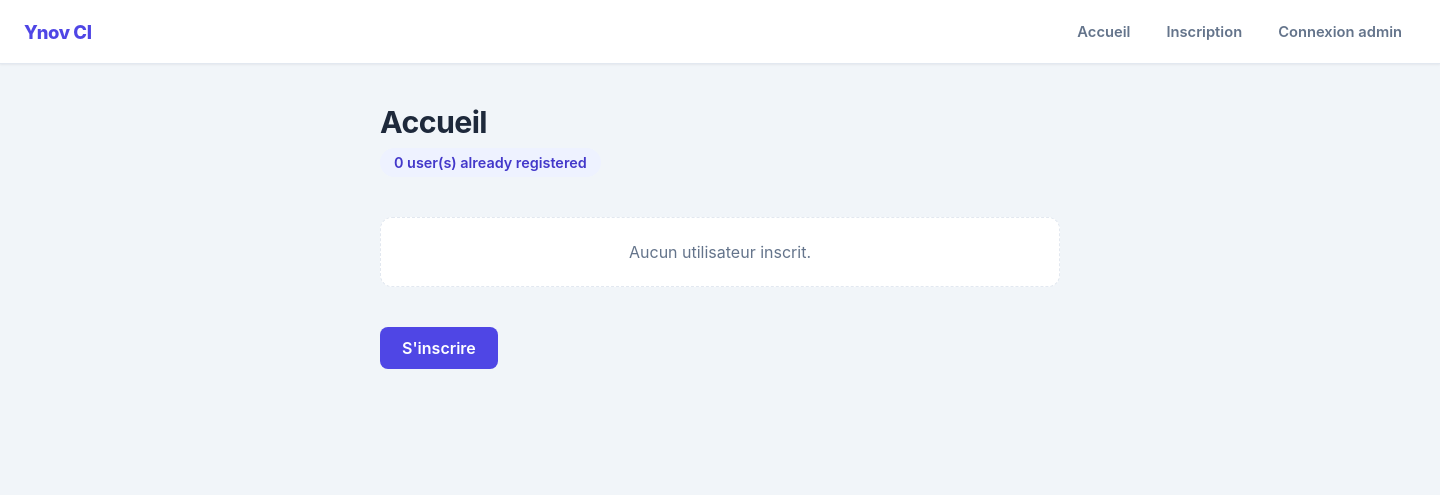
Test: App › navigue vers la page de connexion admin
This screenshot has width=1440, height=495.
Expected: the text "0 user(s) already registered" is shown, [380,148,601,177]
Click the link with test id "nav-login" at point(1340, 32), box [1278,22,1402,40]
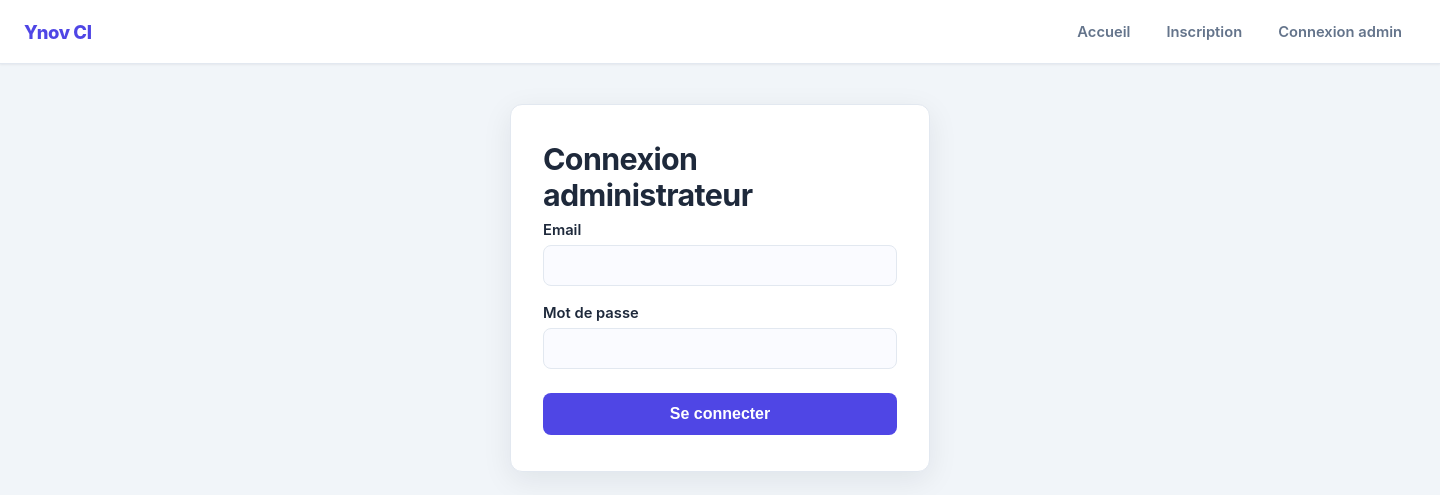
Expected: the heading "Connexion administrateur" is shown, [543,141,752,213]
